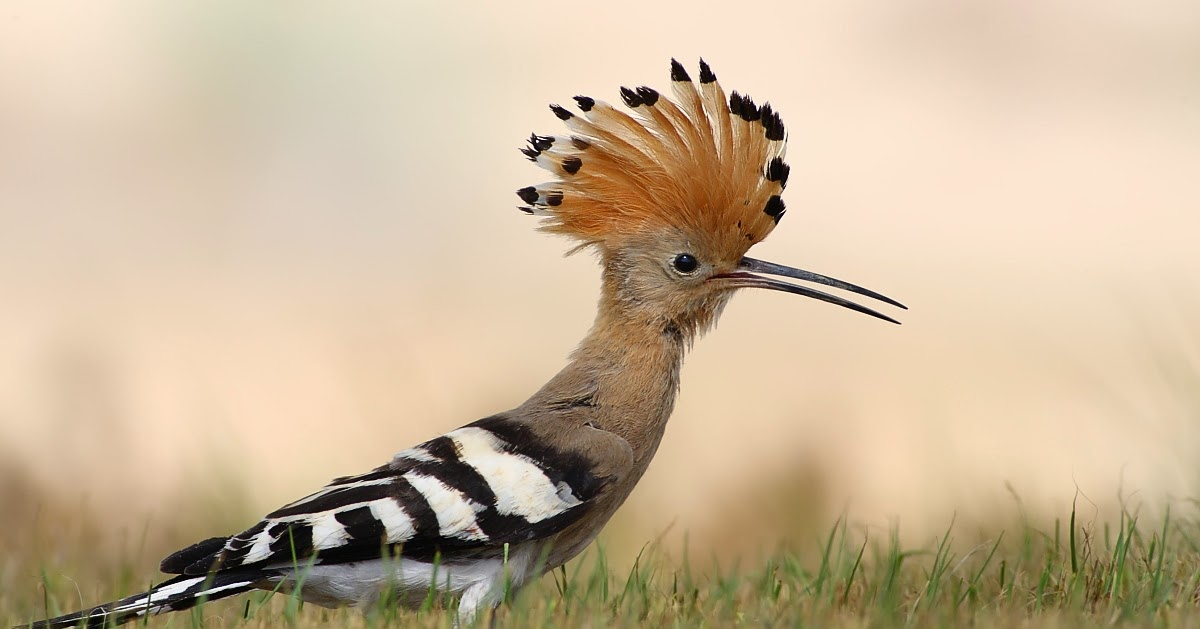bird: (37, 34, 974, 626)
